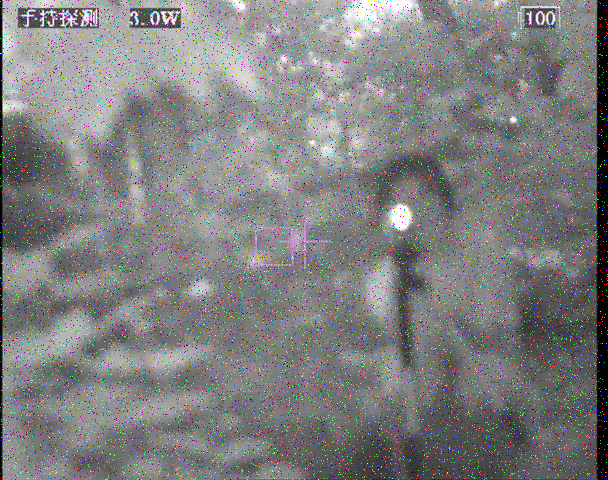my: (389, 203, 413, 231)
